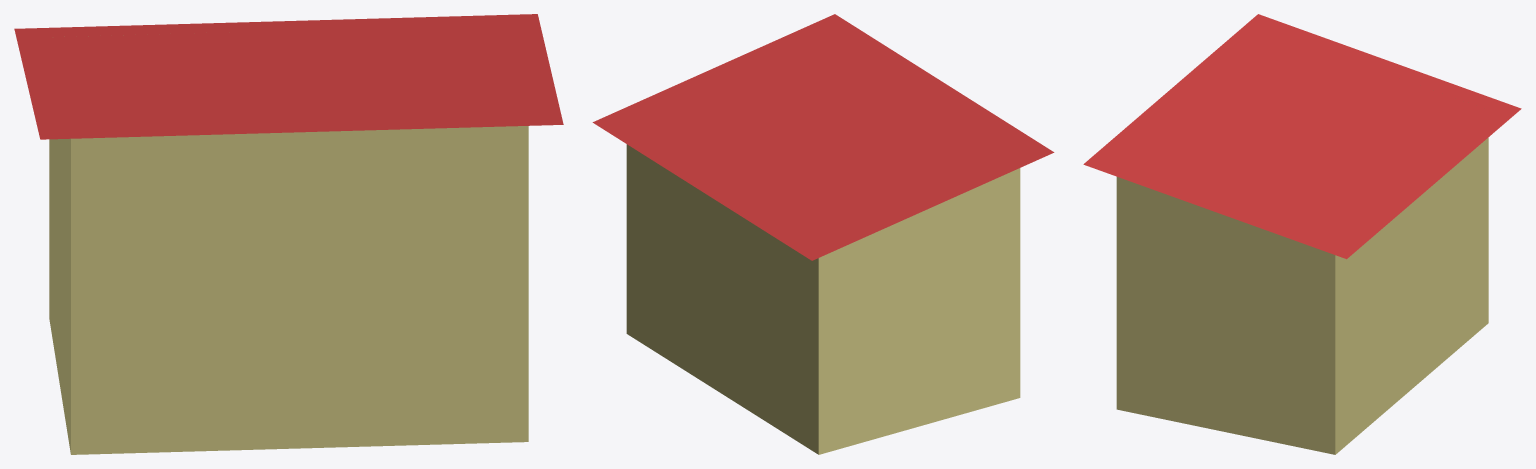
3 views of the same model, side by side, from view 1: azimuth 30°, elevation 25°; view 2: azimuth 150°, elevation 25°; view 3: azimuth 270°, elevation 25° (orthographic). The views are drawn at different scales.
Bounding box in the file's own units: 14.62 × 13.2 × 8.3.
